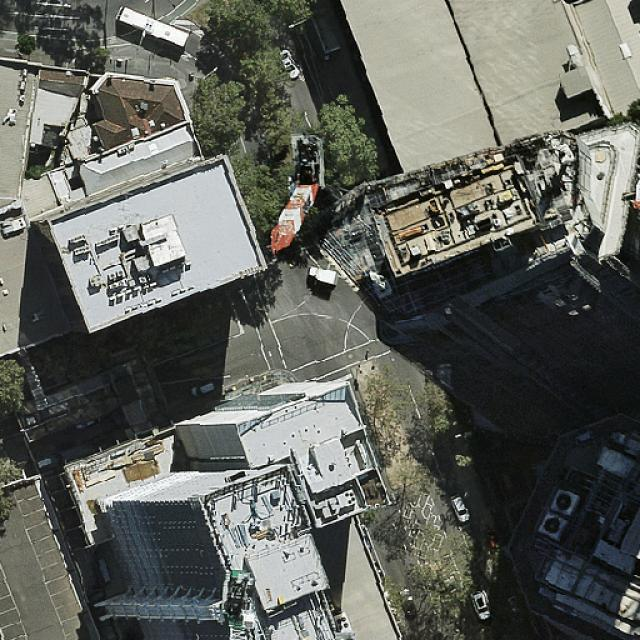Bike-Symbols: (180, 51, 194, 63), (106, 38, 122, 46)
